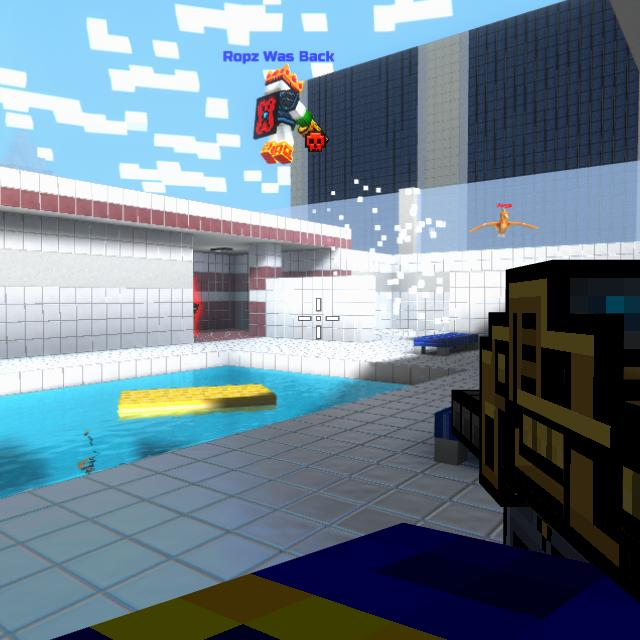Enemy: (499, 211, 508, 235), (192, 299, 198, 335)
